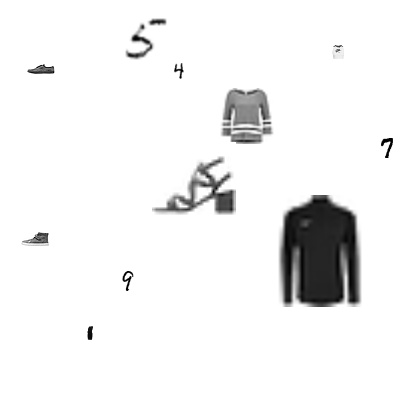4: (168, 59, 190, 81)
5: (116, 11, 172, 67)
7: (373, 131, 401, 159)
9: (113, 265, 141, 293)
Dress: (83, 326, 97, 340)
Pullover: (264, 195, 376, 307), (219, 88, 275, 144)
Sandal: (152, 142, 236, 226)
Sneaker: (27, 55, 55, 83), (21, 225, 49, 253)
T-shirt/top: (331, 45, 345, 59)
